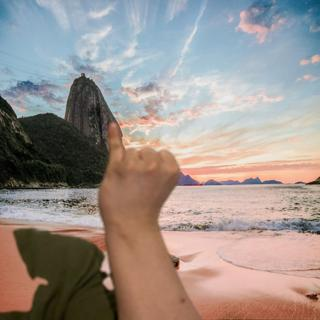FINE: (92, 118, 187, 232)
